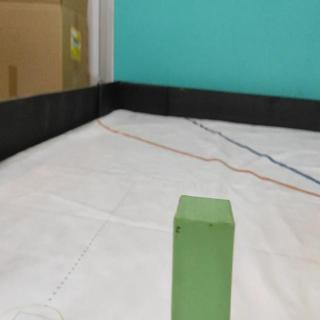greenbox: (169, 194, 236, 320)
